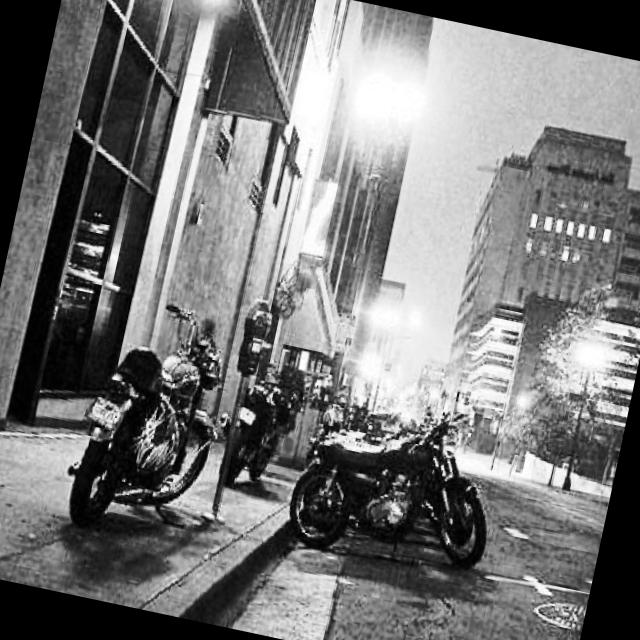Motorcycle: (278, 369, 513, 588), (61, 288, 232, 550), (206, 326, 311, 529)
